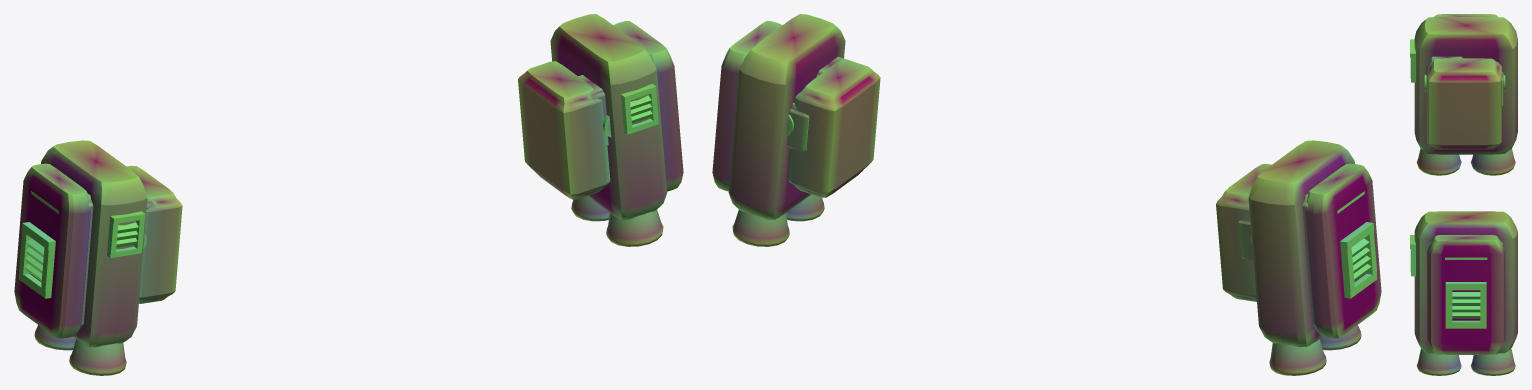
Rendered from llm_gen_leg_thrusters_070_1a6671.glb.
3 renders of one model, left to right at view 1: azimuth 30°, elevation 25°; view 2: azimuth 150°, elevation 25°; view 3: azimuth 270°, elevation 25°, orthographic. The views are drawn at different scales.
Parts seen in each view (by area): view 1: greave_pylon_0_cobalt_anodized_r, greave_pylon_0_cobalt_anodized_l, adapter_calf_clamp_r, lateral_binder_shroud_2_wing_white_l, adapter_calf_clamp_l, lateral_binder_shroud_2_wing_white_r, ankle_vector_bell_b_7_vernier_bell_vernier_l, adapter_sub_binder_side_vent_3_dark_l, ankle_vector_bell_b_7_vernier_bell_vernier_r, adapter_sub_greave_intake_grille_5_dark_l, adapter_sub_greave_intake_grille_5_dark_r, ankle_vector_bell_a_6_vernier_bell_vernier_r (+2 smaller); view 2: greave_pylon_0_cobalt_anodized_r, greave_pylon_0_cobalt_anodized_l, adapter_calf_clamp_r, lateral_binder_shroud_2_wing_white_l, adapter_calf_clamp_l, lateral_binder_shroud_2_wing_white_r, ankle_vector_bell_a_6_vernier_bell_vernier_l, adapter_sub_binder_side_vent_3_dark_l, ankle_vector_bell_a_6_vernier_bell_vernier_r, adapter_leg_tank_collar_dark_11_adapter_dark_r, ankle_vector_bell_b_7_vernier_bell_vernier_r, binder_side_vent_3_intake_gold_l (+1 smaller); view 3: lateral_binder_shroud_2_wing_white_r, greave_pylon_0_cobalt_anodized_l, adapter_calf_clamp_l, greave_pylon_0_cobalt_anodized_r, adapter_sub_binder_side_vent_3_dark_r, ankle_vector_bell_a_6_vernier_bell_vernier_r, ankle_vector_bell_b_7_vernier_bell_vernier_r, ankle_vector_bell_b_7_vernier_bell_vernier_l, ankle_vector_bell_a_6_vernier_bell_vernier_l, binder_side_vent_3_intake_gold_r, adapter_sub_greave_intake_grille_5_dark_l, adapter_sub_greave_intake_grille_5_dark_r (+3 smaller).
Boxes of the visible parts, bbox=[...] form: greave_pylon_0_cobalt_anodized_r: bbox=[550, 14, 667, 219]; greave_pylon_0_cobalt_anodized_l: bbox=[41, 140, 147, 347]; adapter_calf_clamp_r: bbox=[518, 61, 610, 199]; lateral_binder_shroud_2_wing_white_l: bbox=[14, 163, 90, 338]; adapter_calf_clamp_l: bbox=[126, 165, 182, 303]; lateral_binder_shroud_2_wing_white_r: bbox=[613, 21, 683, 191]; ankle_vector_bell_b_7_vernier_bell_vernier_l: bbox=[69, 339, 126, 375]; adapter_sub_binder_side_vent_3_dark_l: bbox=[18, 222, 55, 298]; ankle_vector_bell_b_7_vernier_bell_vernier_r: bbox=[606, 209, 663, 246]; adapter_sub_greave_intake_grille_5_dark_l: bbox=[107, 211, 145, 257]; adapter_sub_greave_intake_grille_5_dark_r: bbox=[621, 83, 658, 134]; ankle_vector_bell_a_6_vernier_bell_vernier_r: bbox=[571, 196, 609, 221]; greave_pylon_0_cobalt_anodized_r: bbox=[728, 14, 845, 219]; greave_pylon_0_cobalt_anodized_l: bbox=[1248, 140, 1354, 347]; adapter_calf_clamp_r: bbox=[788, 59, 880, 197]; lateral_binder_shroud_2_wing_white_l: bbox=[1305, 163, 1381, 338]; adapter_calf_clamp_l: bbox=[1216, 164, 1271, 301]; lateral_binder_shroud_2_wing_white_r: bbox=[712, 21, 782, 191]; ankle_vector_bell_a_6_vernier_bell_vernier_l: bbox=[1269, 339, 1326, 375]; adapter_sub_binder_side_vent_3_dark_l: bbox=[1340, 222, 1377, 298]; ankle_vector_bell_a_6_vernier_bell_vernier_r: bbox=[732, 209, 789, 246]; adapter_leg_tank_collar_dark_11_adapter_dark_r: bbox=[787, 106, 809, 151]; ankle_vector_bell_b_7_vernier_bell_vernier_r: bbox=[786, 194, 824, 221]; binder_side_vent_3_intake_gold_l: bbox=[1351, 238, 1371, 281]; lateral_binder_shroud_2_wing_white_r: bbox=[1427, 235, 1505, 354]; greave_pylon_0_cobalt_anodized_l: bbox=[1414, 17, 1517, 154]; adapter_calf_clamp_l: bbox=[1426, 58, 1501, 149]; greave_pylon_0_cobalt_anodized_r: bbox=[1414, 211, 1517, 353]; adapter_sub_binder_side_vent_3_dark_r: bbox=[1445, 282, 1486, 328]; ankle_vector_bell_a_6_vernier_bell_vernier_r: bbox=[1470, 348, 1515, 375]; ankle_vector_bell_b_7_vernier_bell_vernier_r: bbox=[1416, 348, 1461, 375]; ankle_vector_bell_b_7_vernier_bell_vernier_l: bbox=[1416, 148, 1461, 175]; ankle_vector_bell_a_6_vernier_bell_vernier_l: bbox=[1470, 148, 1515, 175]; binder_side_vent_3_intake_gold_r: bbox=[1452, 292, 1480, 318]; adapter_sub_greave_intake_grille_5_dark_l: bbox=[1410, 39, 1415, 82]; adapter_sub_greave_intake_grille_5_dark_r: bbox=[1410, 235, 1415, 276].
Bounding box in the file's own units: 82.98 × 23.9 × 15.73.
